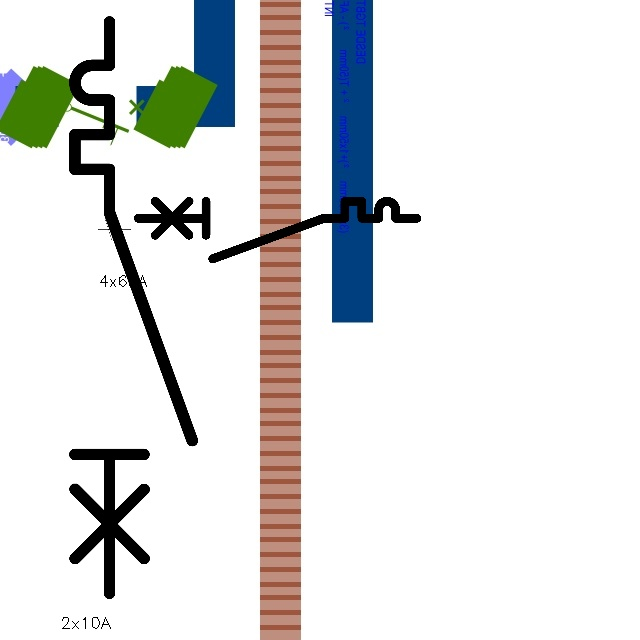interruptor_termomagnetico: (60, 7, 207, 608), (131, 194, 424, 265)
